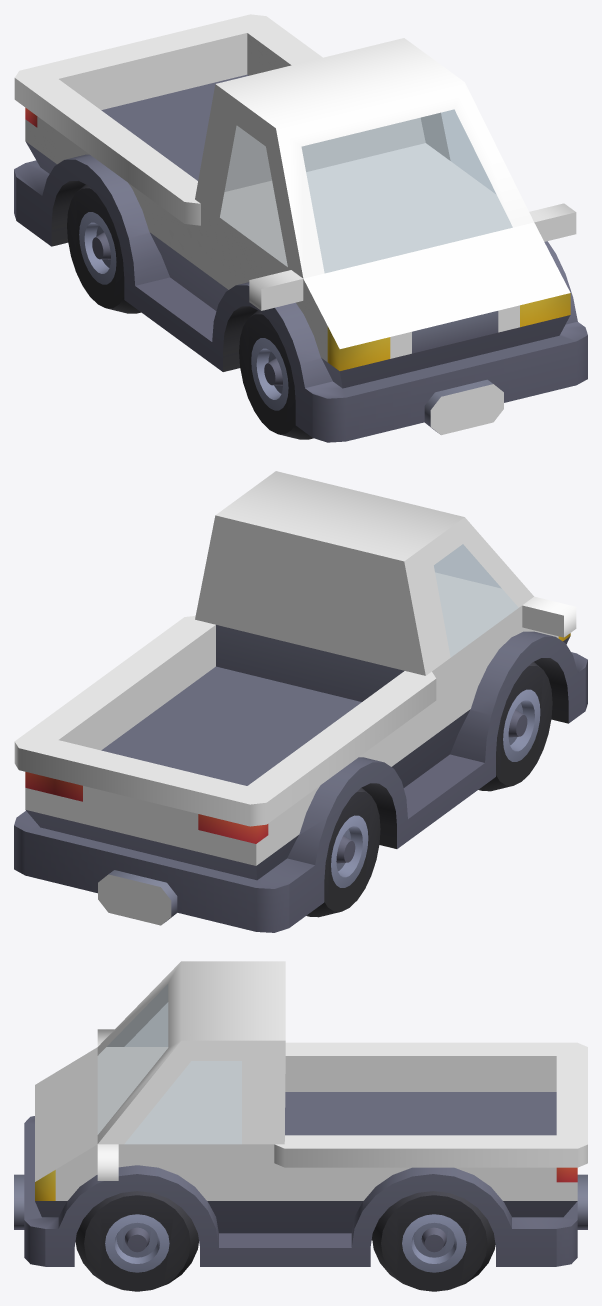
Rendered from flatbed-lod1.glb.
The picture shows the model from 3 angles, top to bottom: view 1: azimuth 30°, elevation 25°; view 2: azimuth 150°, elevation 25°; view 3: azimuth 270°, elevation 25°; orthographic projection. The views are drawn at different scales.
Visible parts, largest first — view 1: paint, body, glass, wheel-back-right, wheel-front-right; view 2: paint, body, wheel-front-right, glass, wheel-back-right; view 3: paint, body, glass, wheel-front-left, wheel-back-left.
Part boxes in pixels (box(x1,y1,x2,y2)): paint: box(14, 14, 576, 435); body: box(14, 74, 587, 442); glass: box(220, 109, 512, 272); wheel-back-right: box(67, 184, 140, 313); wheel-front-right: box(239, 310, 313, 439); paint: box(14, 471, 576, 925); body: box(14, 625, 587, 932); wheel-front-right: box(478, 662, 552, 791); glass: box(434, 544, 518, 656); wheel-back-right: box(306, 787, 380, 917); paint: box(35, 961, 587, 1200); body: box(14, 1092, 587, 1266); glass: box(98, 984, 241, 1143); wheel-front-left: box(75, 1191, 198, 1291); wheel-back-left: box(372, 1191, 495, 1291).
Bounding box in the file's own units: 2.47 × 2.14 × 4.53.
Materials: 3 (1 with a texture image).
